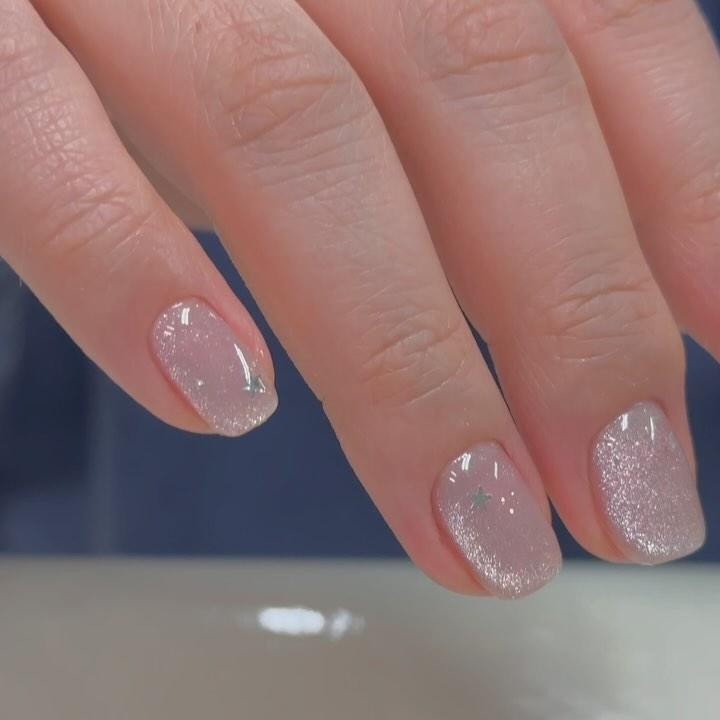nail: (429, 437, 562, 600), (587, 399, 707, 565), (146, 294, 278, 437)
